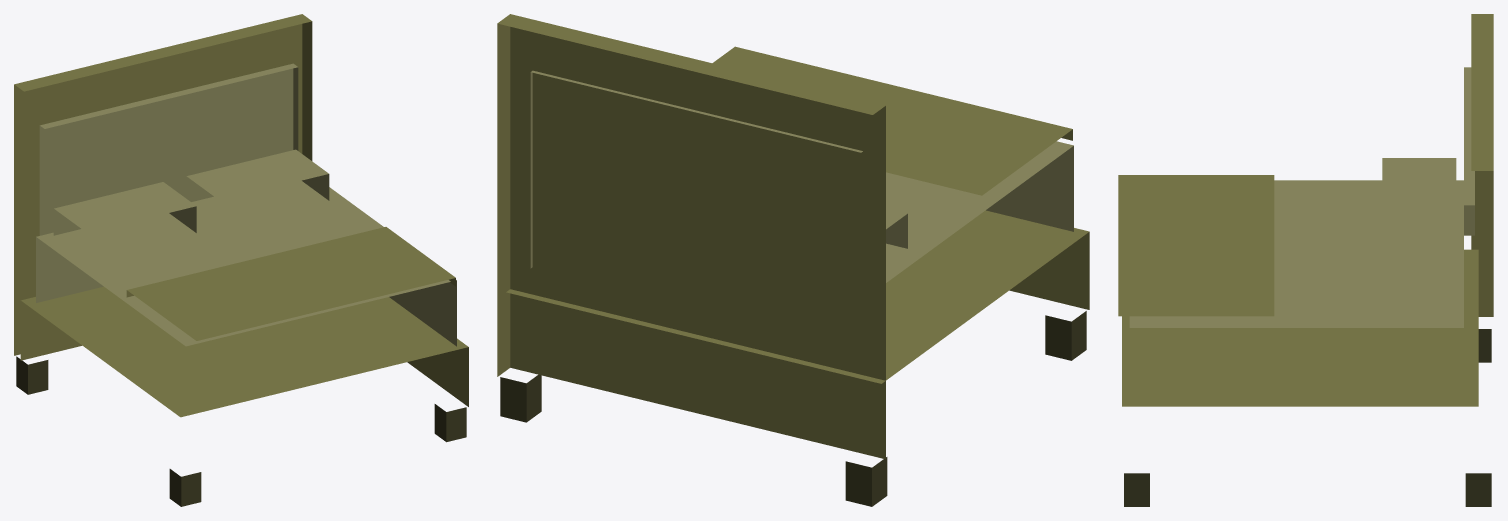
File: Bed-olive.glb
3 renders of one model, left to right at view 1: azimuth 30°, elevation 25°; view 2: azimuth 150°, elevation 25°; view 3: azimuth 270°, elevation 25°, orthographic. The views are drawn at different scales.
Parts seen in each view (by area): view 1: Bed; view 2: Bed; view 3: Bed.
Boxes of the visible parts, left/top/right/bottom form: Bed: left=14, top=14, right=468, bottom=506; Bed: left=497, top=14, right=1089, bottom=506; Bed: left=1118, top=14, right=1493, bottom=506.
Size of the model in its own units: 1 by 1 by 1.01.
